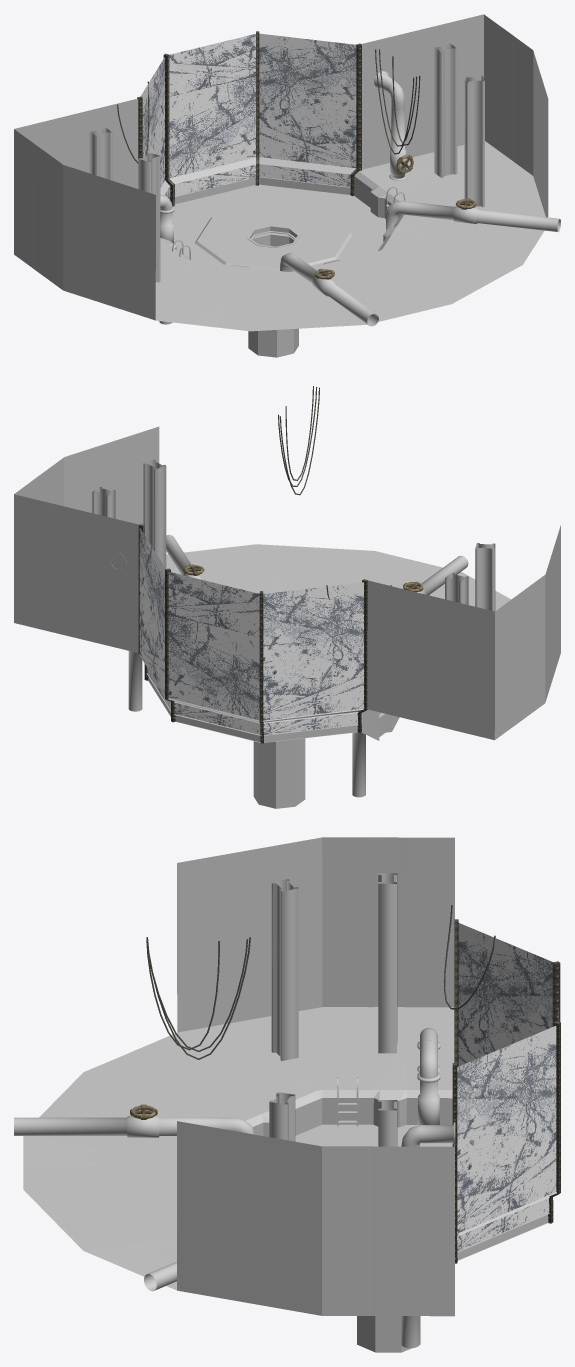
The model's file is MagnetboyStage.FBX.
The picture shows the model from 3 angles, top to bottom: view 1: azimuth 30°, elevation 25°; view 2: azimuth 150°, elevation 25°; view 3: azimuth 270°, elevation 25°; orthographic projection. The views are drawn at different scales.
Parts seen in each view (by area): view 1: Object001; view 2: Object001; view 3: Object001.
Part boxes in pixels (bbox=[...]): Object001: bbox=[14, 14, 560, 357]; Object001: bbox=[14, 386, 560, 808]; Object001: bbox=[14, 837, 560, 1352].
Bounding box in the file's own units: 457 × 300 × 341.
